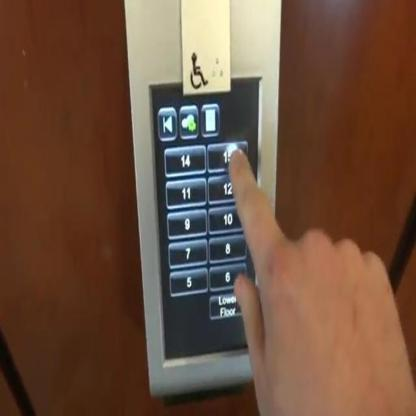10: (207, 202, 248, 233)
11: (165, 176, 206, 210)
12: (206, 172, 249, 204)
14: (163, 144, 207, 176)
5: (169, 265, 208, 295)
6: (208, 262, 247, 291)
7: (167, 238, 207, 268)
8: (208, 232, 247, 262)
9: (166, 207, 206, 238)
CH: (182, 45, 211, 92)
text: (209, 291, 248, 318)
unknown: (206, 141, 249, 172), (199, 101, 220, 139), (155, 105, 177, 141), (178, 102, 198, 140)
